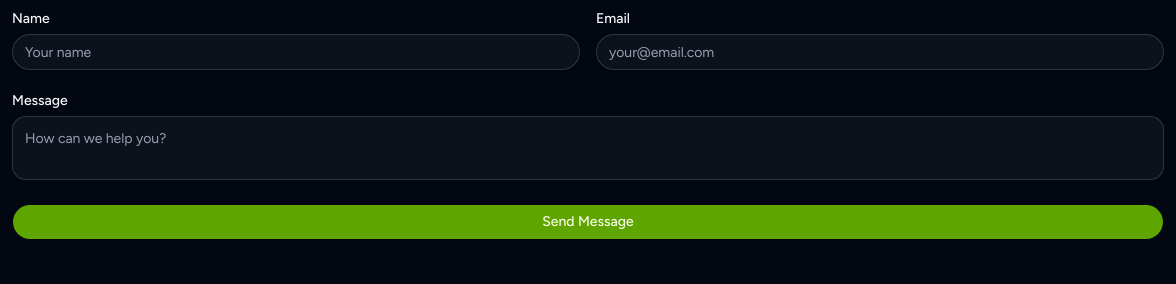
Test: ContactForm › shows validation errors on blur for empty name
The width and height of the screenshot is (1176, 284).
Type "a" into the field labelled "Name" at coordinates (296, 52), box [12,34,580,70]
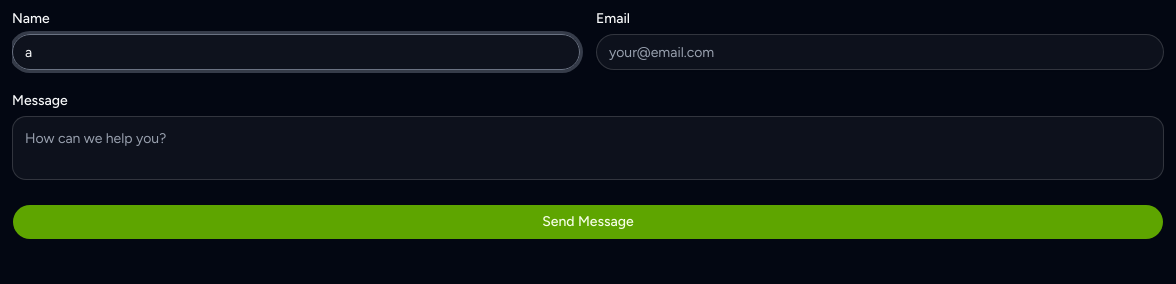
Clear the field labelled "Name" at coordinates (296, 52), box [12,34,580,70]
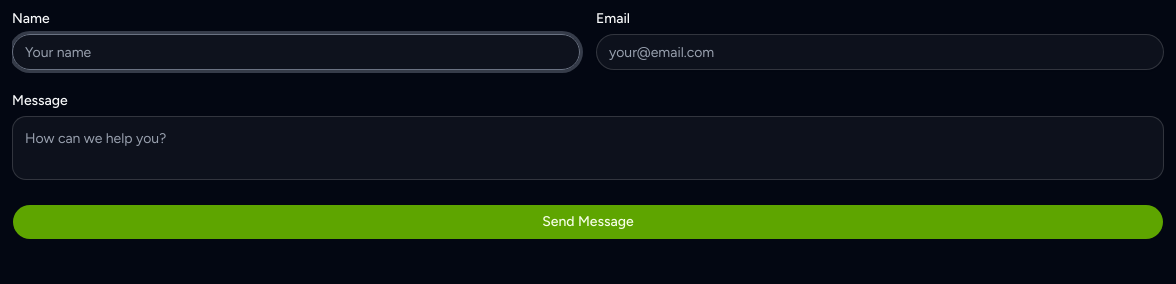
Press Tab
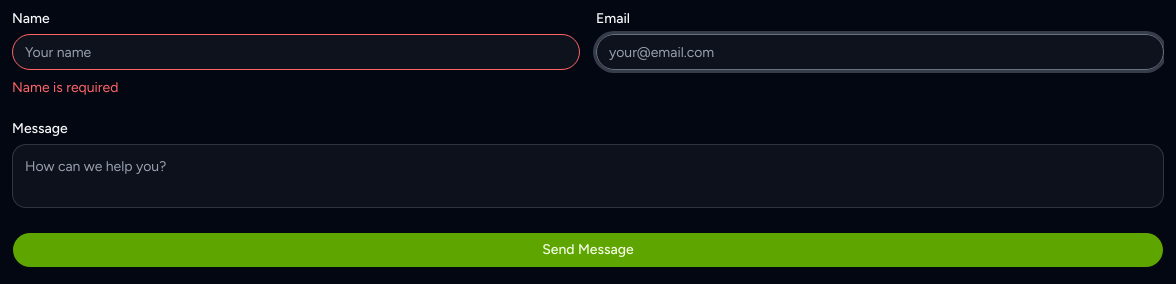
Now the text "Name is required" is shown, box [12,79,118,96]
